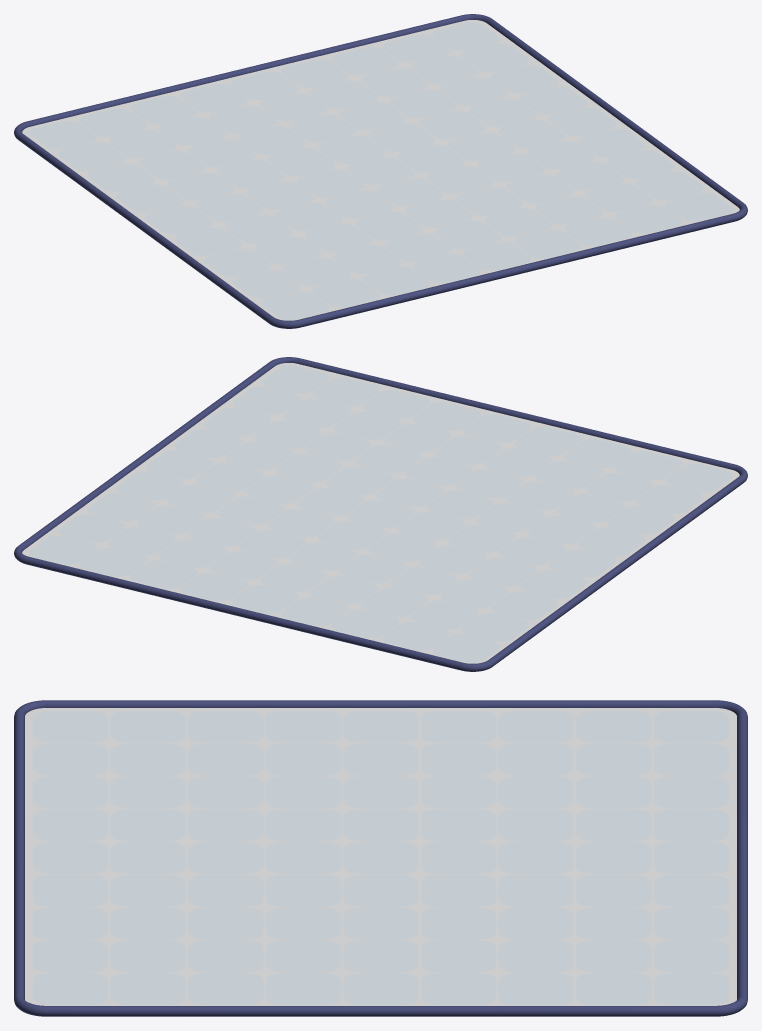
Rendered from cubes2.fbx.
3 renders of one model, top to bottom at view 1: azimuth 30°, elevation 25°; view 2: azimuth 150°, elevation 25°; view 3: azimuth 270°, elevation 25°, orthographic. The views are drawn at different scales.
Parts seen in each view (by area): view 1: Plane.002, Plane.089, Plane.137, Plane.093, Plane.096, Plane.097, Plane.102, Plane.113, Plane.115, Plane.120, Plane.122, Plane.131 (+71 smaller); view 2: Plane.002, Plane.089, Plane.105, Plane.088, Plane.093, Plane.098, Plane.101, Plane.103, Plane.108, Plane.115, Plane.117, Plane.122 (+71 smaller); view 3: Plane.002, Plane.089, Plane.153, Plane.158, Plane.160, Plane.165, Plane.154, Plane.159, Plane.161, Plane.166, Plane.155, Plane.162 (+71 smaller).
Part boxes in pixels (<box>): Plane.002: <box>22,20,739,320</box>; Plane.089: <box>14,14,747,328</box>; Plane.137: <box>203,248,271,277</box>; Plane.093: <box>548,107,616,136</box>; Plane.096: <box>461,43,528,72</box>; Plane.097: <box>58,142,125,170</box>; Plane.102: <box>310,80,377,109</box>; Plane.113: <box>116,184,183,213</box>; Plane.115: <box>217,160,284,188</box>; Plane.120: <box>469,98,536,127</box>; Plane.122: <box>196,193,263,222</box>; Plane.131: <box>275,202,342,231</box>; Plane.002: <box>22,363,739,663</box>; Plane.089: <box>14,357,747,671</box>; Plane.105: <box>490,591,558,620</box>; Plane.088: <box>233,386,300,415</box>; Plane.093: <box>145,450,213,479</box>; Plane.098: <box>411,600,478,629</box>; Plane.101: <box>260,563,327,592</box>; Plane.103: <box>159,539,226,567</box>; Plane.108: <box>339,554,406,583</box>; Plane.115: <box>419,545,486,574</box>; Plane.117: <box>318,521,385,549</box>; Plane.122: <box>498,536,565,565</box>; Plane.002: <box>25,708,736,1005</box>; Plane.089: <box>14,700,747,1016</box>; Plane.153: <box>32,743,108,775</box>; Plane.158: <box>32,907,108,939</box>; Plane.160: <box>653,743,729,775</box>; Plane.165: <box>653,907,729,939</box>; Plane.154: <box>32,776,108,808</box>; Plane.159: <box>32,940,108,972</box>; Plane.161: <box>653,776,729,808</box>; Plane.166: <box>653,940,729,972</box>; Plane.155: <box>32,809,108,841</box>; Plane.162: <box>653,809,729,841</box>.
Size of the model in its own units: 20.49 by 0.3028 by 20.49.
